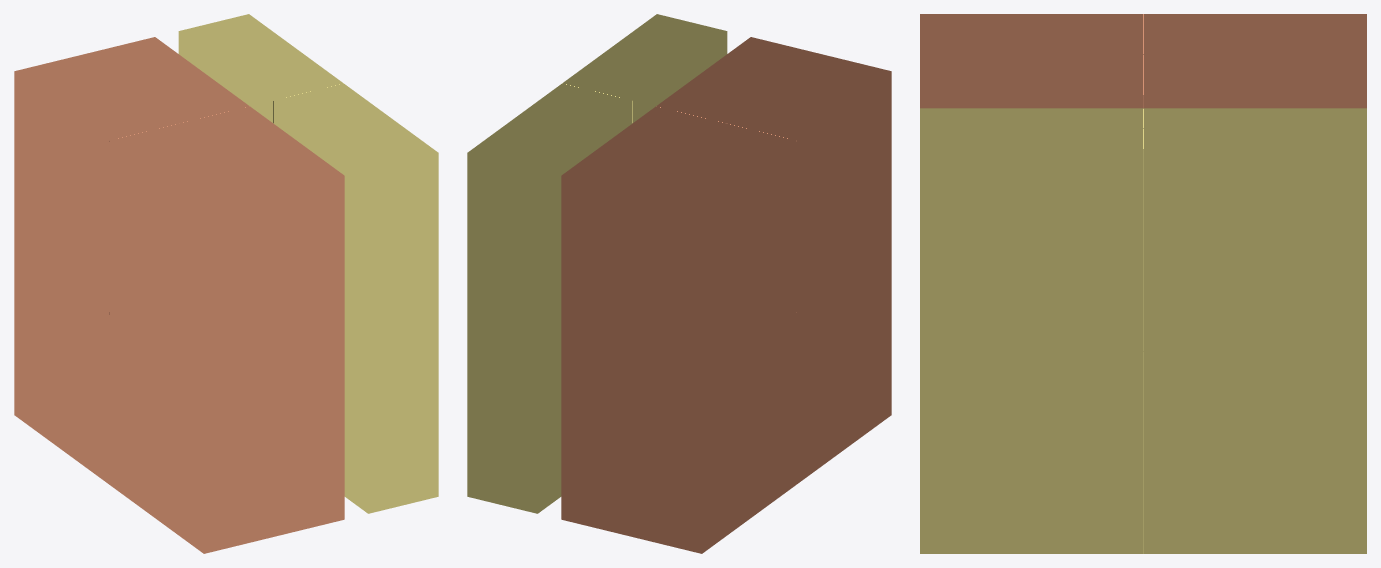
Rendered from heat_transfer.glb.
3 views of the same model, side by side, from view 1: azimuth 30°, elevation 25°; view 2: azimuth 150°, elevation 25°; view 3: azimuth 270°, elevation 25° (orthographic). The views are drawn at different scales.
Parts seen in each view (by area): view 1: BrickWallLayer, InsulationLayer; view 2: BrickWallLayer, InsulationLayer; view 3: InsulationLayer, BrickWallLayer.
Part boxes in pixels (<box>): BrickWallLayer: <box>14,37,344,553</box>; InsulationLayer: <box>178,14,438,513</box>; BrickWallLayer: <box>561,37,891,553</box>; InsulationLayer: <box>467,14,727,513</box>; InsulationLayer: <box>920,108,1366,553</box>; BrickWallLayer: <box>920,14,1366,108</box>.
Size of the model in its own units: 1 by 1.4 by 1.4.
